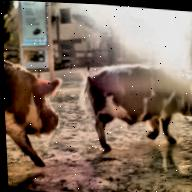boar: (74, 58, 192, 157), (3, 59, 66, 168)
